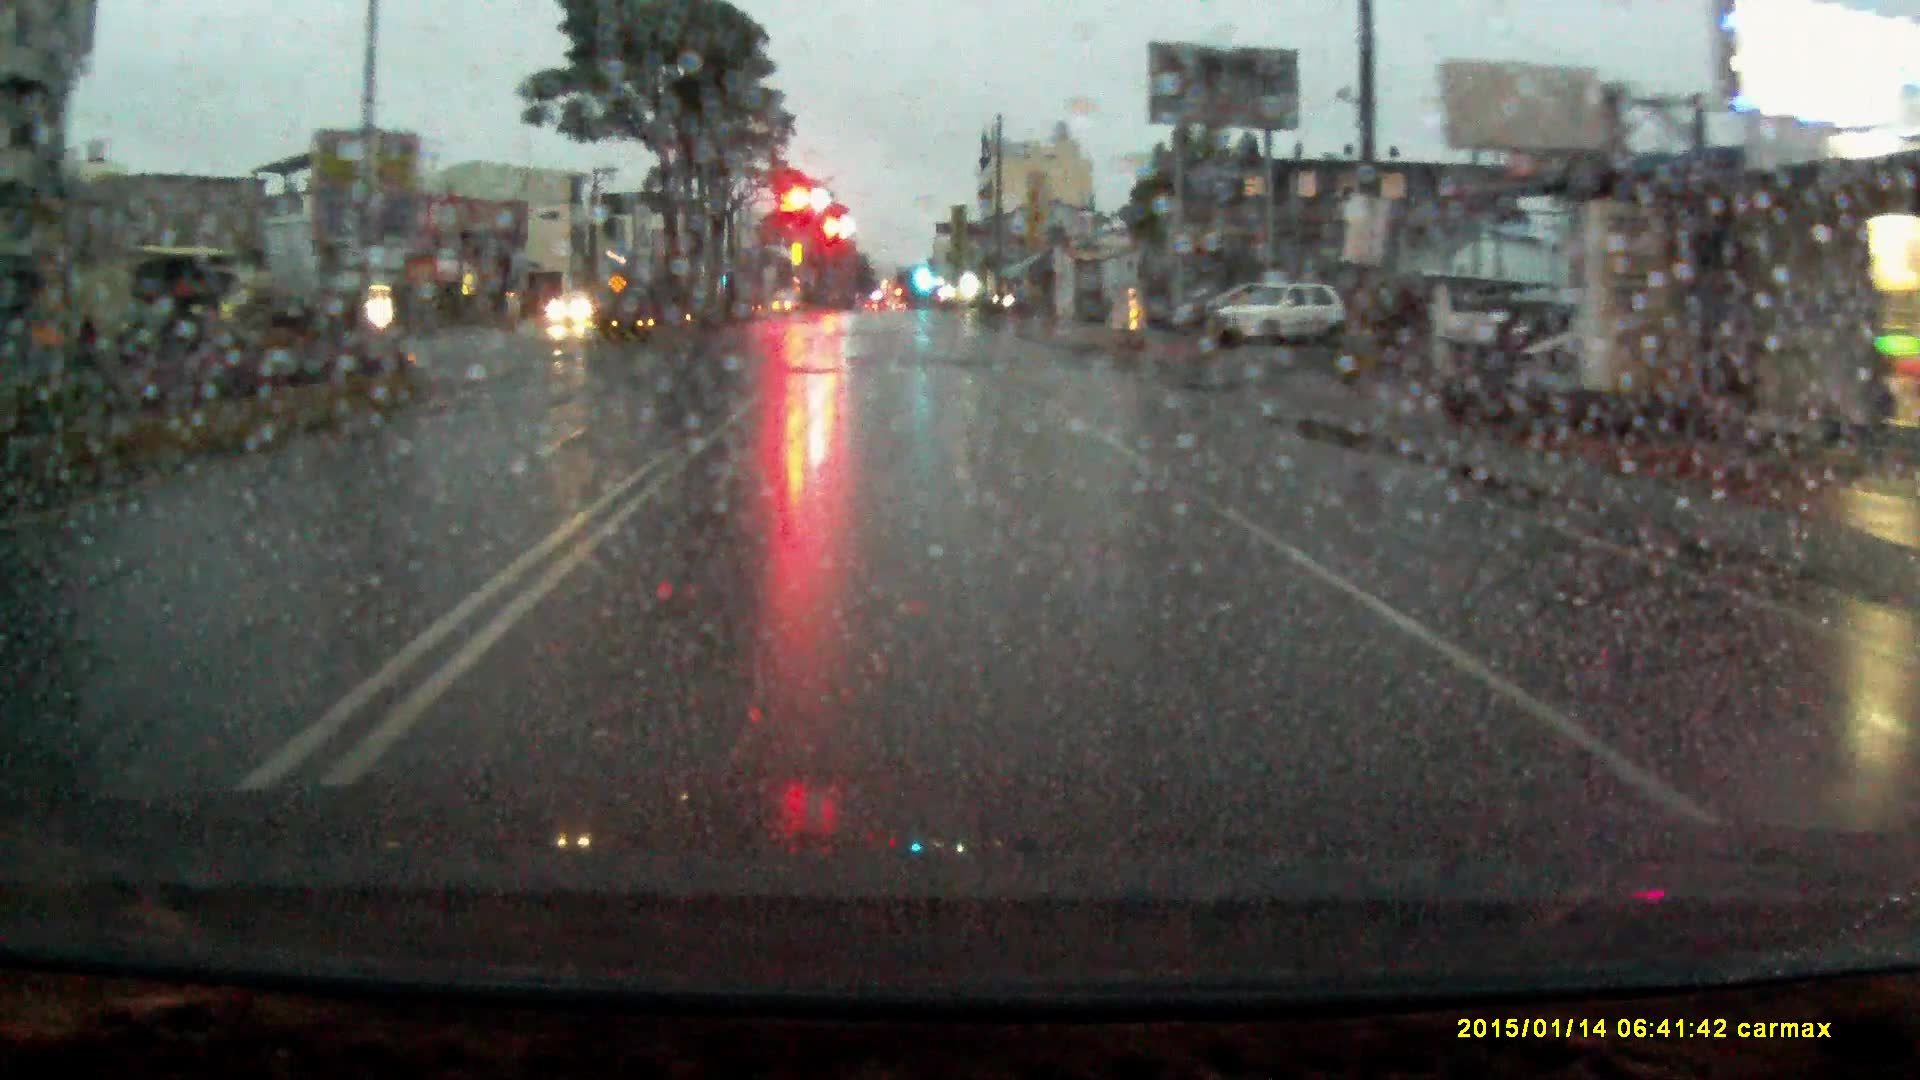vehicle: (1209, 280, 1360, 349), (1180, 287, 1286, 349), (550, 291, 603, 328)
